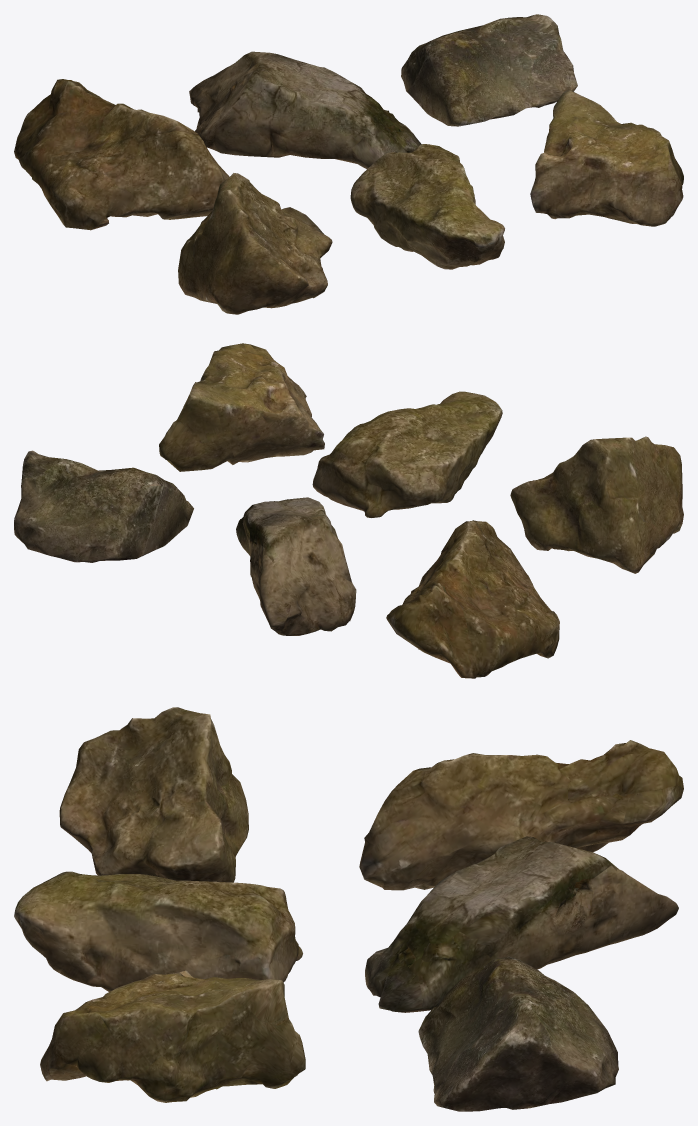
File: rock-moss-set-01.glb
3 renders of one model, top to bottom at view 1: azimuth 30°, elevation 25°; view 2: azimuth 150°, elevation 25°; view 3: azimuth 270°, elevation 25°, orthographic. The views are drawn at different scales.
Parts seen in each view (by area): view 1: rock_moss_set_01_rock01, rock_moss_set_01_rock02, rock_moss_set_01_rock06, rock_moss_set_01_rock04, rock_moss_set_01_rock03, rock_moss_set_01_rock05; view 2: rock_moss_set_01_rock04, rock_moss_set_01_rock01, rock_moss_set_01_rock05, rock_moss_set_01_rock03, rock_moss_set_01_rock06, rock_moss_set_01_rock02; view 3: rock_moss_set_01_rock01, rock_moss_set_01_rock02, rock_moss_set_01_rock05, rock_moss_set_01_rock06, rock_moss_set_01_rock04, rock_moss_set_01_rock03.
Boxes of the visible parts, x1,y1,x2,y2 form: rock_moss_set_01_rock01: [14, 79, 229, 230]; rock_moss_set_01_rock02: [189, 51, 421, 169]; rock_moss_set_01_rock06: [530, 90, 683, 226]; rock_moss_set_01_rock04: [178, 173, 332, 314]; rock_moss_set_01_rock03: [401, 14, 577, 126]; rock_moss_set_01_rock05: [350, 144, 504, 269]; rock_moss_set_01_rock04: [510, 436, 683, 573]; rock_moss_set_01_rock01: [386, 520, 559, 678]; rock_moss_set_01_rock05: [312, 391, 502, 517]; rock_moss_set_01_rock03: [14, 450, 193, 562]; rock_moss_set_01_rock06: [159, 343, 324, 471]; rock_moss_set_01_rock02: [236, 497, 356, 635]; rock_moss_set_01_rock01: [359, 740, 683, 890]; rock_moss_set_01_rock02: [365, 836, 678, 1012]; rock_moss_set_01_rock05: [14, 871, 302, 991]; rock_moss_set_01_rock06: [40, 970, 305, 1102]; rock_moss_set_01_rock04: [59, 707, 248, 882]; rock_moss_set_01_rock03: [418, 956, 618, 1111].
Bounding box in the file's own units: 8 × 1.76 × 6.94.
1 material, 1 textured.
